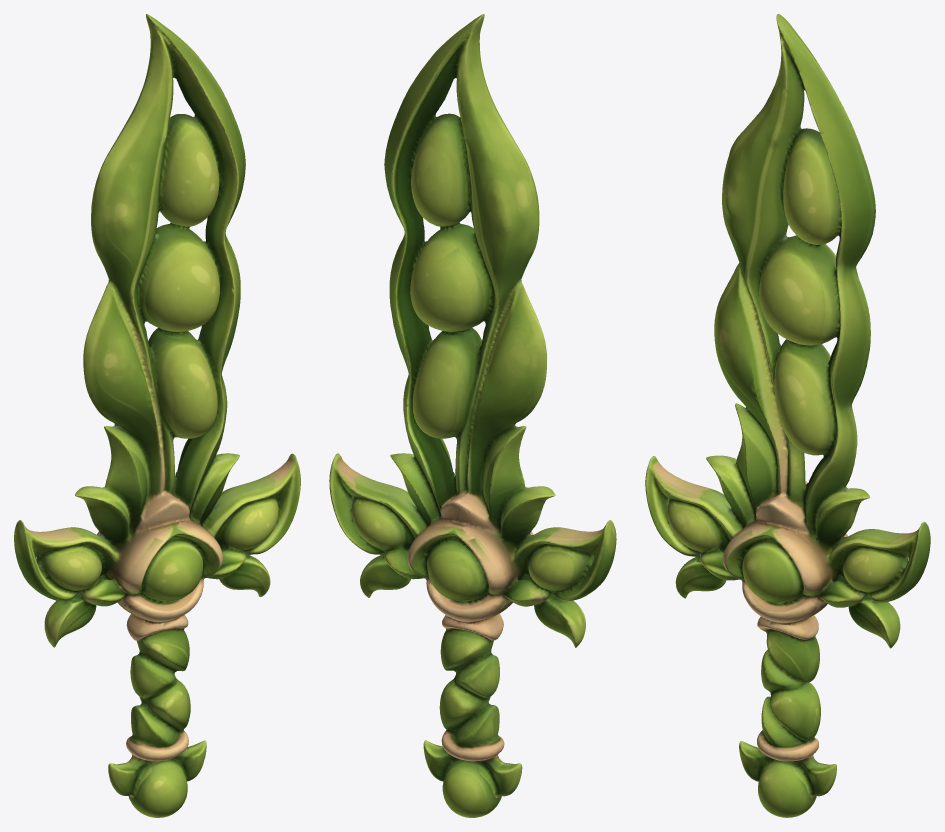
File: Soypod_blade_texture.glb
3 renders of one model, left to right at view 1: azimuth 30°, elevation 25°; view 2: azimuth 150°, elevation 25°; view 3: azimuth 330°, elevation 25°, orthographic.
Size of the model in its own units: 0.6885 by 1.89 by 0.2368.
Materials: 1 (1 with a texture image).
